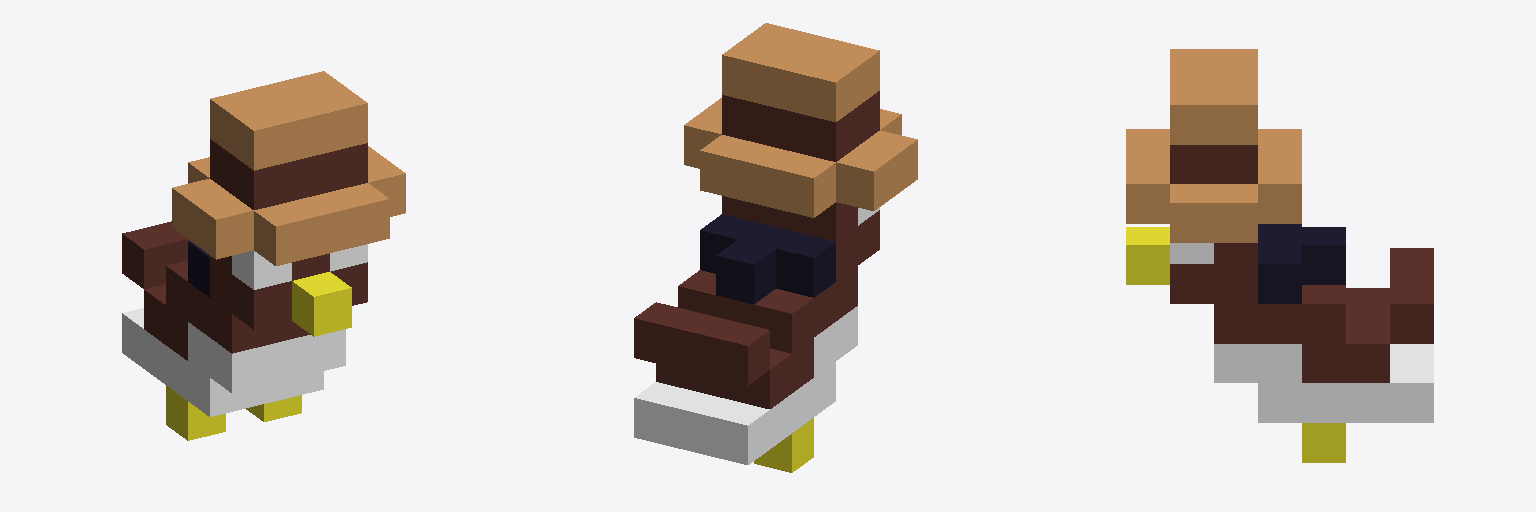
3 renders of one model, left to right at view 1: azimuth 30°, elevation 25°; view 2: azimuth 150°, elevation 25°; view 3: azimuth 270°, elevation 25°, orthographic.
Parts seen in each view (by area): view 1: object 1; view 2: object 1; view 3: object 1.
Boxes of the visible parts, <box> form: object 1: <box>122,71,405,440</box>; object 1: <box>634,23,917,472</box>; object 1: <box>1126,49,1433,462</box>.
Bounding box in the file's own units: 0.5 × 0.9 × 0.7.
Materials: 1 (1 with a texture image).